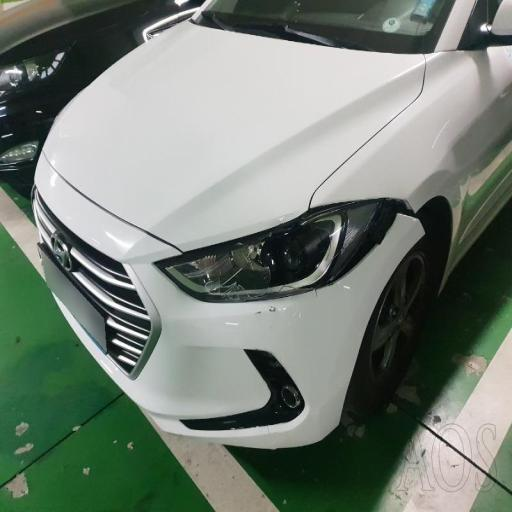normal: (24, 3, 512, 494)
